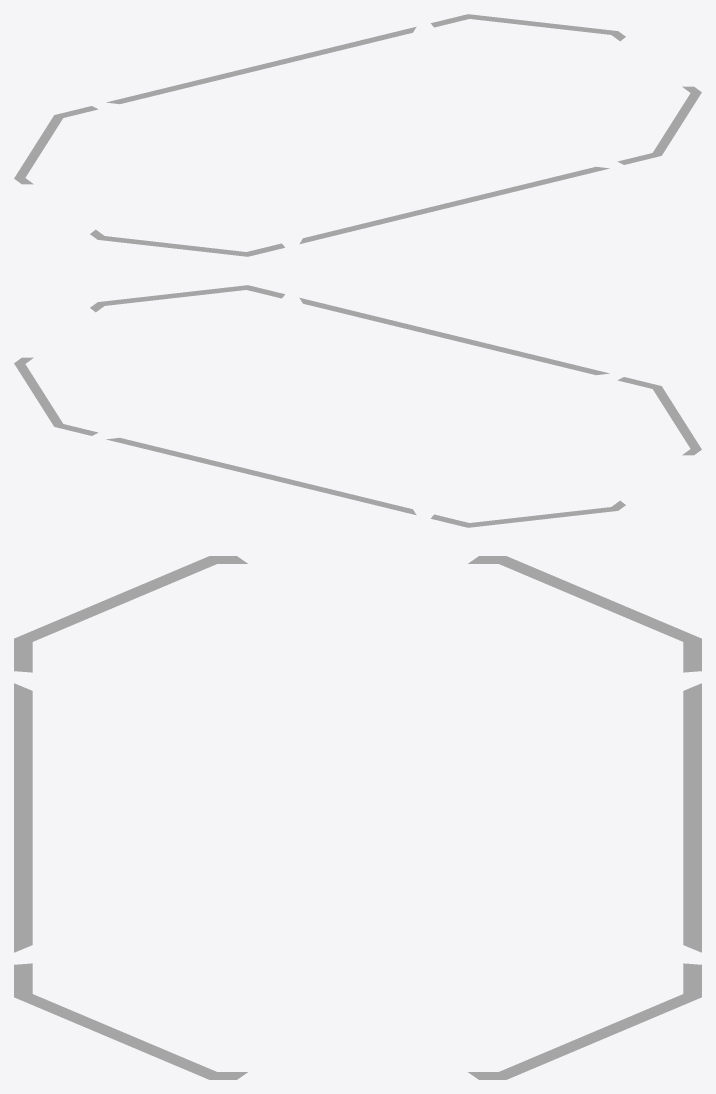
Rendered from mesh_Spaceship_Hockey_ExteriorPattern.fbx.
3 views of the same model, one above another, from view 1: azimuth 30°, elevation 25°; view 2: azimuth 150°, elevation 25°; view 3: azimuth 270°, elevation 25° (orthographic). The views are drawn at different scales.
Visible parts, largest first — view 1: mesh_ExteriorFrame.001; view 2: mesh_ExteriorFrame.001; view 3: mesh_ExteriorFrame.001.
Part boxes in pixels (left/top/right/bottom): mesh_ExteriorFrame.001: left=14, top=14, right=701, bottom=256; mesh_ExteriorFrame.001: left=14, top=285, right=701, bottom=527; mesh_ExteriorFrame.001: left=14, top=556, right=701, bottom=1079.
Size of the model in its own units: 56.09 by 0 by 31.14.
